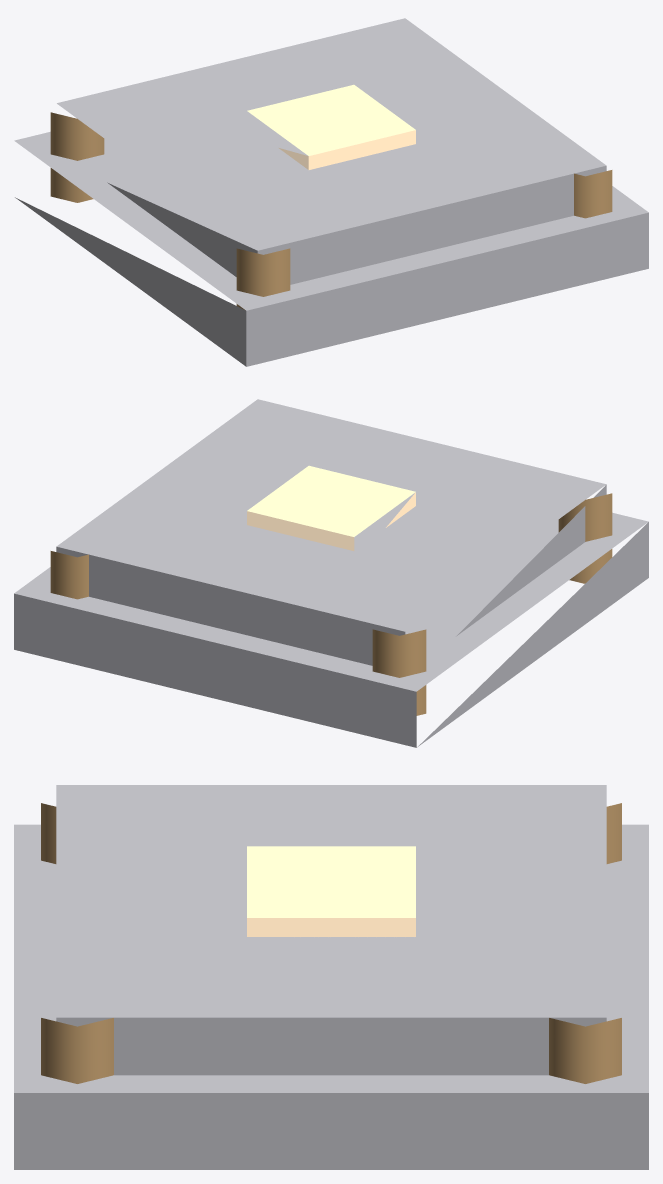
The model's file is placas_laton.glb.
The picture shows the model from 3 angles, top to bottom: view 1: azimuth 30°, elevation 25°; view 2: azimuth 150°, elevation 25°; view 3: azimuth 270°, elevation 25°; orthographic projection. The views are drawn at different scales.
Parts seen in each view (by area): view 1: Base, Glow, Accent; view 2: Base, Glow, Accent; view 3: Base, Glow, Accent.
Part boxes in pixels (x1=…): Base: x1=14, y1=18, x2=648, y2=366; Glow: x1=247, y1=84, x2=415, y2=169; Accent: x1=50, y1=112, x2=612, y2=310; Base: x1=14, y1=399, x2=648, y2=747; Glow: x1=247, y1=465, x2=415, y2=550; Accent: x1=50, y1=493, x2=612, y2=715; Base: x1=14, y1=785, x2=648, y2=1169; Glow: x1=247, y1=846, x2=415, y2=936; Accent: x1=41, y1=803, x2=621, y2=1083.
Size of the model in its own units: 0.3 by 0.08 by 0.3.
